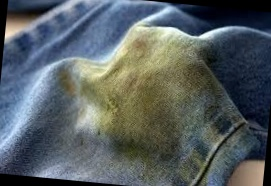earth: (72, 50, 196, 153)
